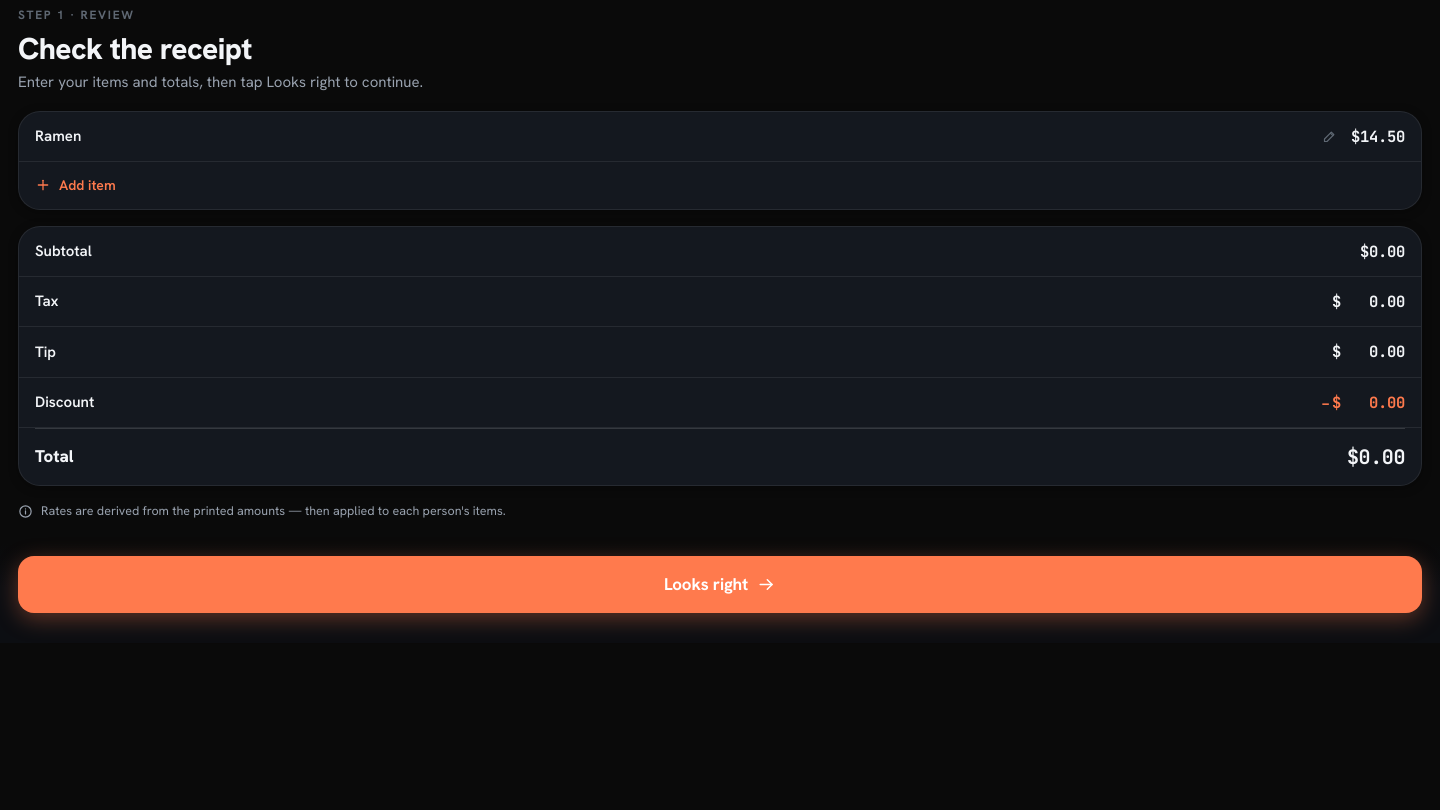
Test: items editing › editing item name updates the store on blur
Click the button "Ramen $14.50". click: (58, 136)
box: x1=19 y1=112 x2=1421 y2=162
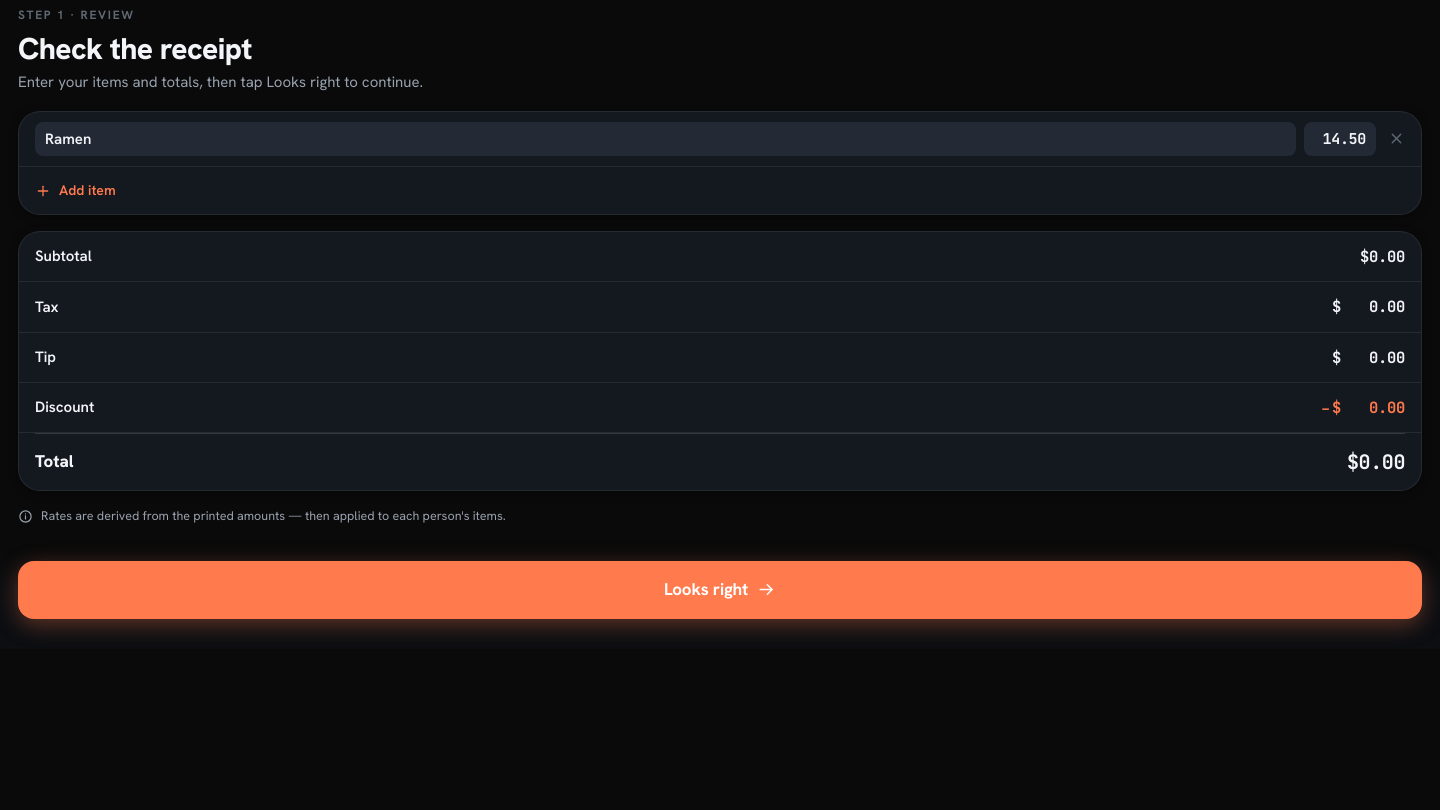
Replace the text in the field named "item name" with "Tonkotsu Ramen". click: (666, 139)
box: x1=35 y1=122 x2=1296 y2=156
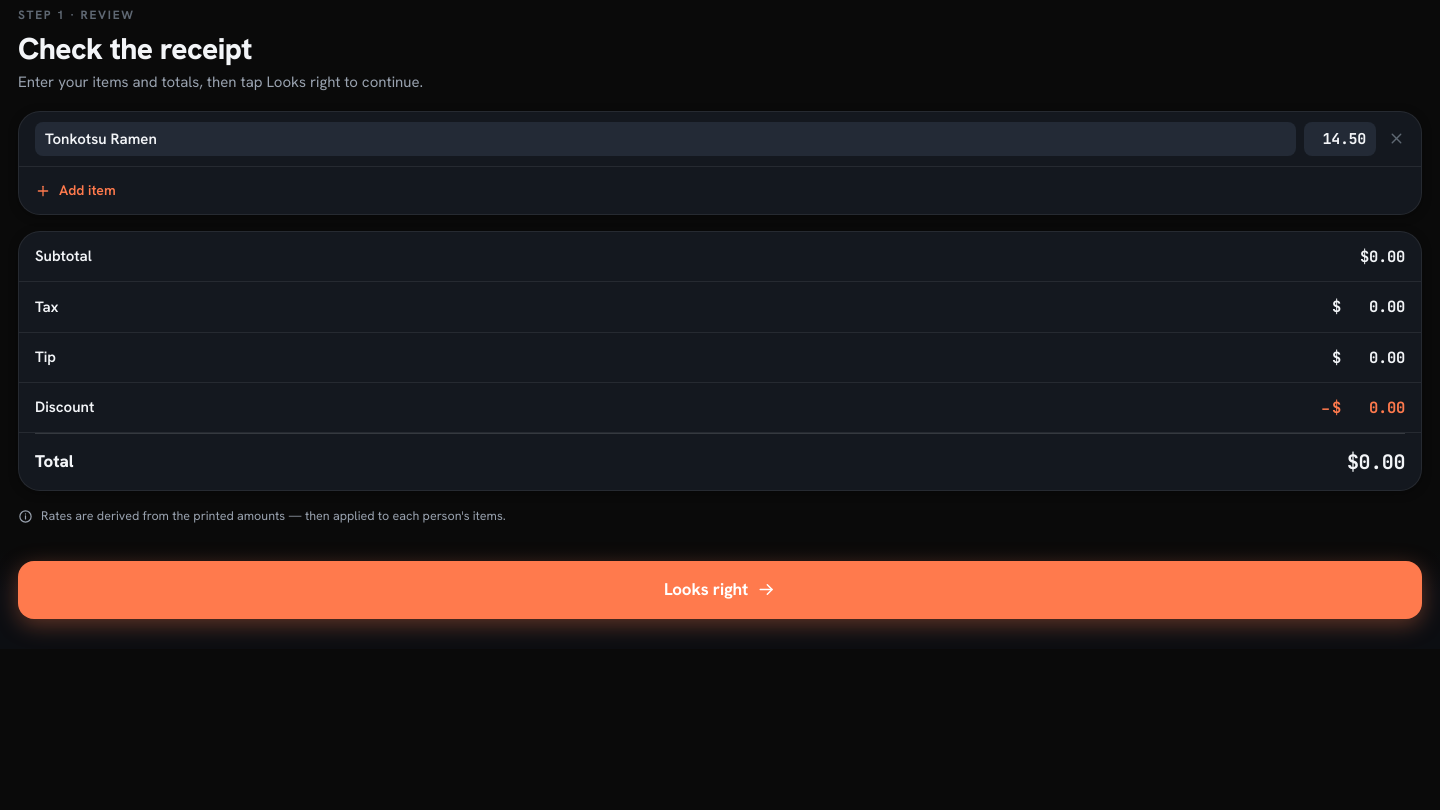
Leave the field named "item name", box x1=35 y1=122 x2=1296 y2=156
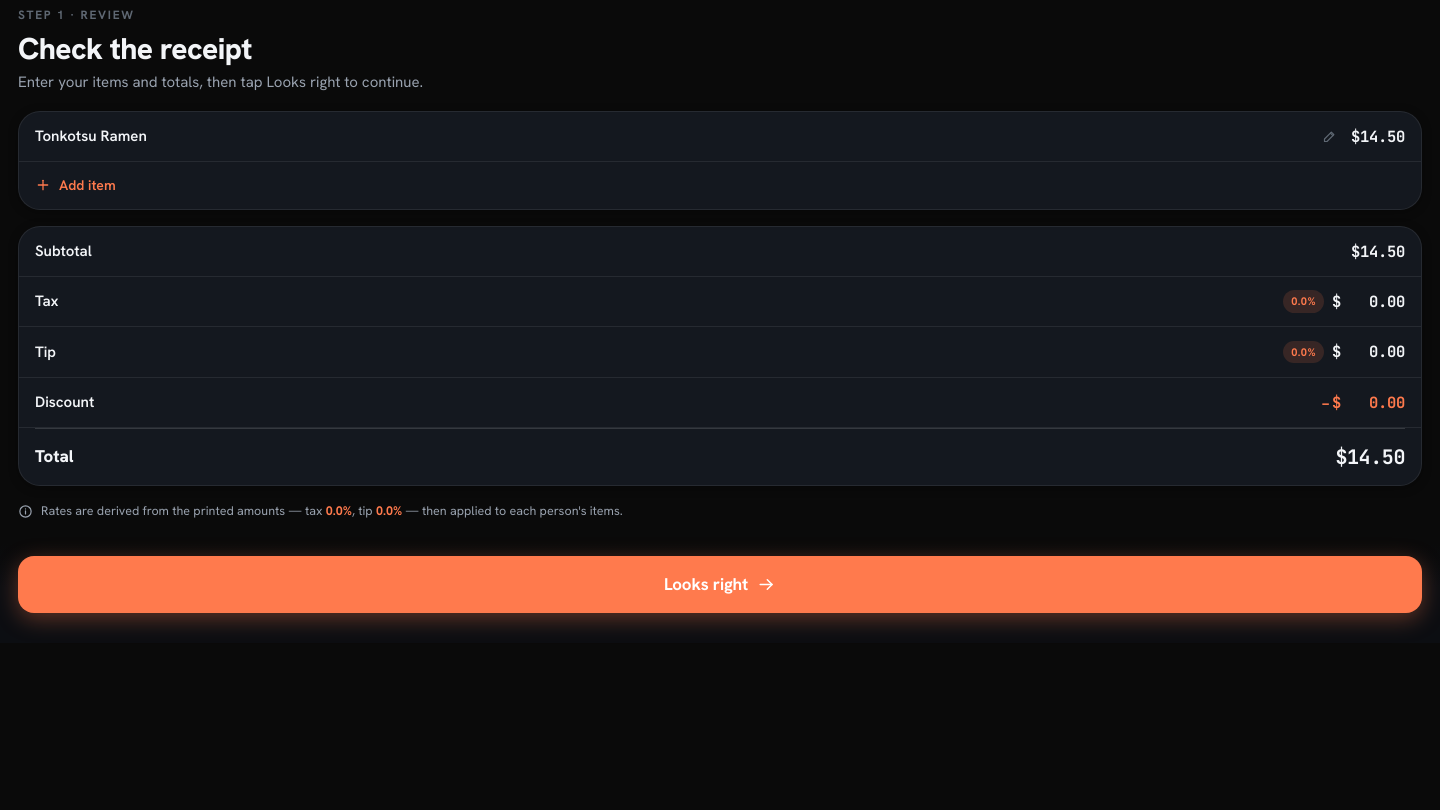
Result: the text "Tonkotsu Ramen" is shown at x1=35 y1=126 x2=147 y2=146
